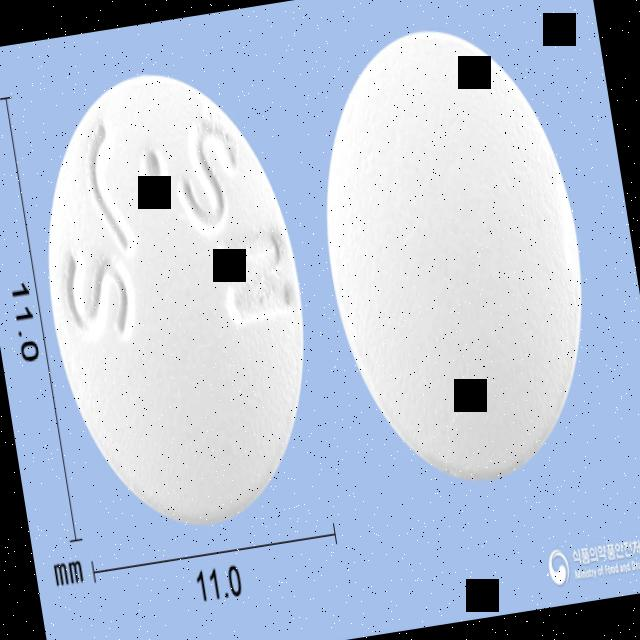Ciflonew: (12, 46, 340, 552)
